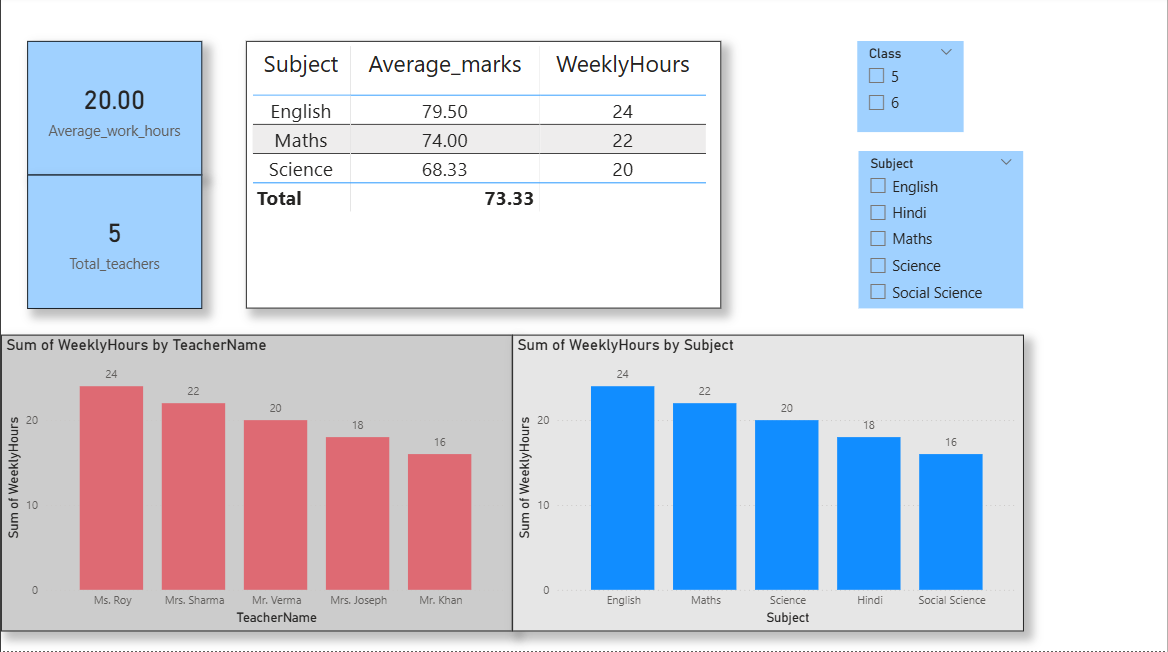

What the dashboard file says about the page in this screenshot:
{"tool":"powerbi","page":{"name":"Teacher Workload & Operational Insights","canvas":[1280,720],"ordinal":2},"visuals":[{"type":"card","fields":{"Values":["Report_Measures.Average_work_hours"]},"box":[28.8,49.4,192.1,146.8],"z":0},{"type":"card","fields":{"Values":["Report_Measures.Total_teachers"]},"box":[28.8,196.2,192.1,146.8],"z":1},{"type":"columnChart","fields":{"Category":["teacher_workload.TeacherName"],"Y":["teacher_workload.WeeklyHours"]},"box":[0,371.9,561.2,325.2],"z":2},{"type":"columnChart","fields":{"Y":["teacher_workload.WeeklyHours"],"Category":["teacher_workload.Subject"]},"box":[561.2,371.9,561.2,325.2],"z":3},{"type":"tableEx","fields":{"Values":["teacher_workload.Subject","academic_sources.Average_marks","teacher_workload.WeeklyHours"]},"box":[269,49.4,521.4,293.7],"z":4},{"type":"slicer","fields":{"Values":["dim_class.Class"]},"box":[940,49.4,116.6,100.2],"z":5},{"type":"slicer","fields":{"Values":["teacher_workload.Subject"]},"box":[941.3,170.2,181.1,172.9],"z":6}]}

Visuals, with their boxes in screenshot pixels (x1, y1, x2, y2), scaled from the page's 1280x720 canvas onto the 1168x652 screenshot:
card - Report_Measures.Average_work_hours: [26,45,202,178]
card - Report_Measures.Total_teachers: [26,178,202,311]
columnChart - teacher_workload.TeacherName x teacher_workload.WeeklyHours: [0,337,512,631]
columnChart - teacher_workload.WeeklyHours x teacher_workload.Subject: [512,337,1024,631]
tableEx - teacher_workload.Subject x academic_sources.Average_marks: [245,45,721,311]
slicer - dim_class.Class: [858,45,964,135]
slicer - teacher_workload.Subject: [859,154,1024,311]
